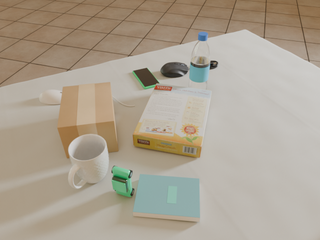book: (133, 174, 200, 222)
bottle: (189, 32, 210, 89)
box: (133, 83, 211, 158), (57, 82, 118, 158)
cup: (68, 134, 109, 189)
mouse: (161, 62, 189, 77), (39, 90, 62, 104)
phone: (133, 68, 159, 89)
toy_car: (112, 166, 134, 197)
